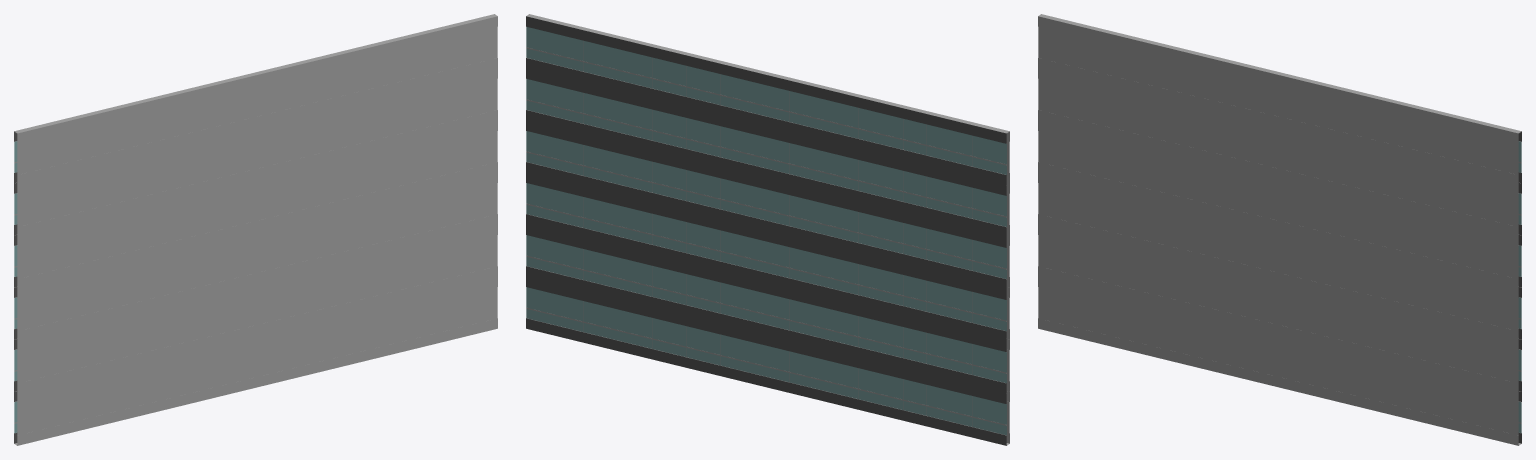
The model's file is ReflectiveBuilding.fbx.
3 views of the same model, side by side, from view 1: azimuth 30°, elevation 25°; view 2: azimuth 150°, elevation 25°; view 3: azimuth 330°, elevation 25° (orthographic).
Parts seen in each view (by area): view 1: pCube11, pCube12, pCube13; view 2: pCube11, pCube12, pCube13; view 3: pCube13, pCube12, pCube11.
Part boxes in pixels (<box>): pCube11: <box>14,92,177,445</box>; pCube12: <box>174,53,337,406</box>; pCube13: <box>335,14,497,367</box>; pCube11: <box>846,92,1009,445</box>; pCube12: <box>686,53,849,406</box>; pCube13: <box>526,14,688,367</box>; pCube13: <box>1358,92,1521,445</box>; pCube12: <box>1198,53,1361,406</box>; pCube11: <box>1038,14,1200,367</box>.
Bounding box in the file's own units: 96.58 × 60 × 1.08.
